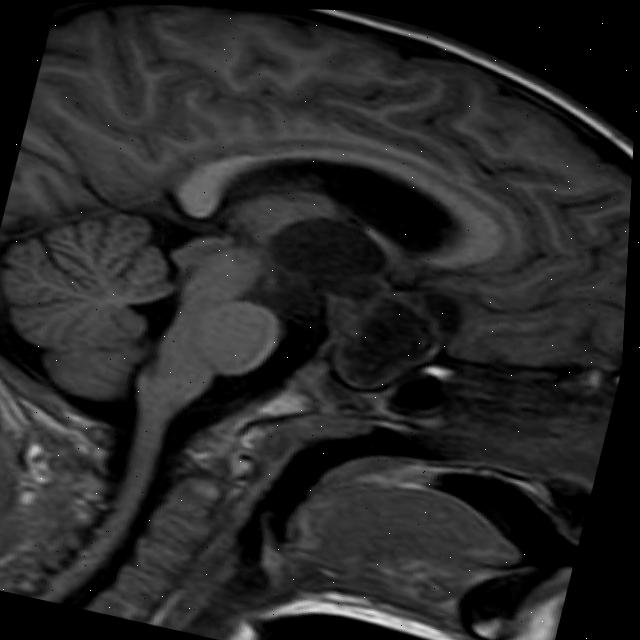NoTumor: (0, 0, 640, 512)
